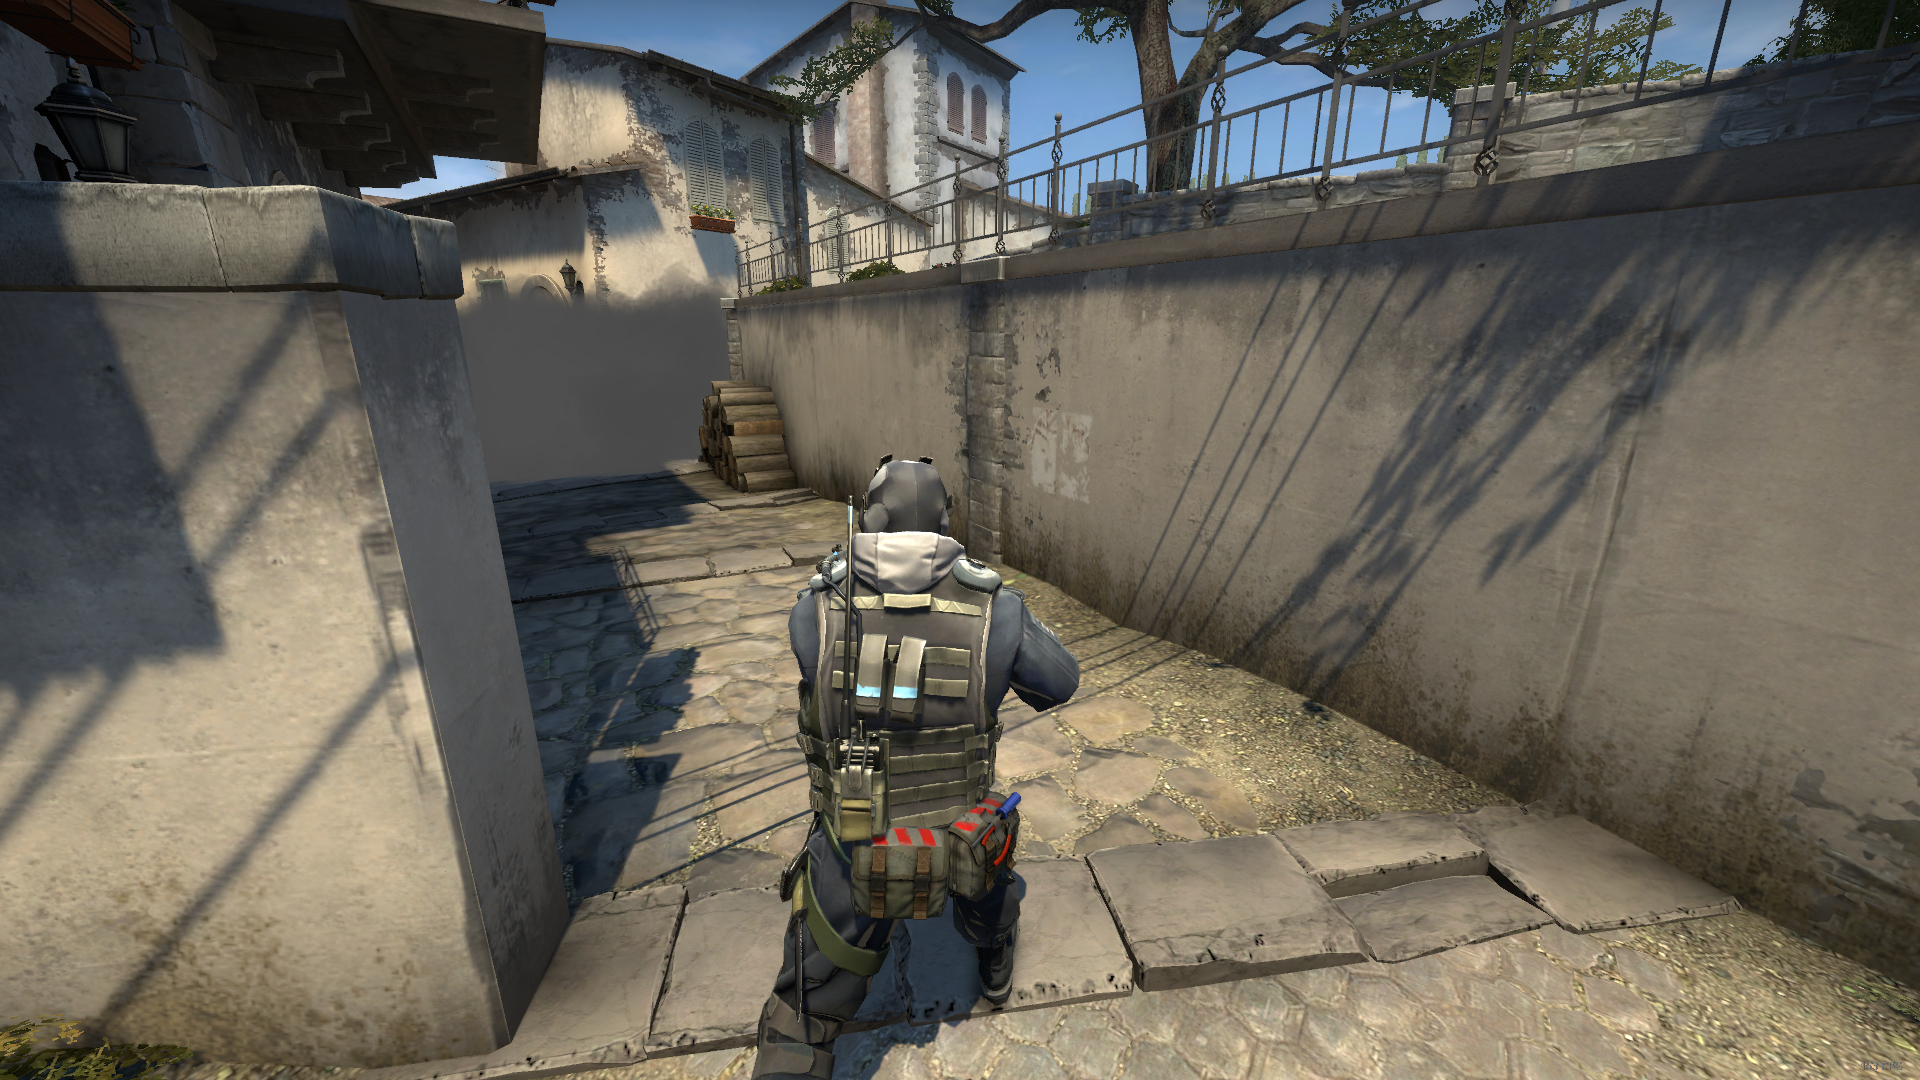ct: (746, 456, 1080, 1080)
